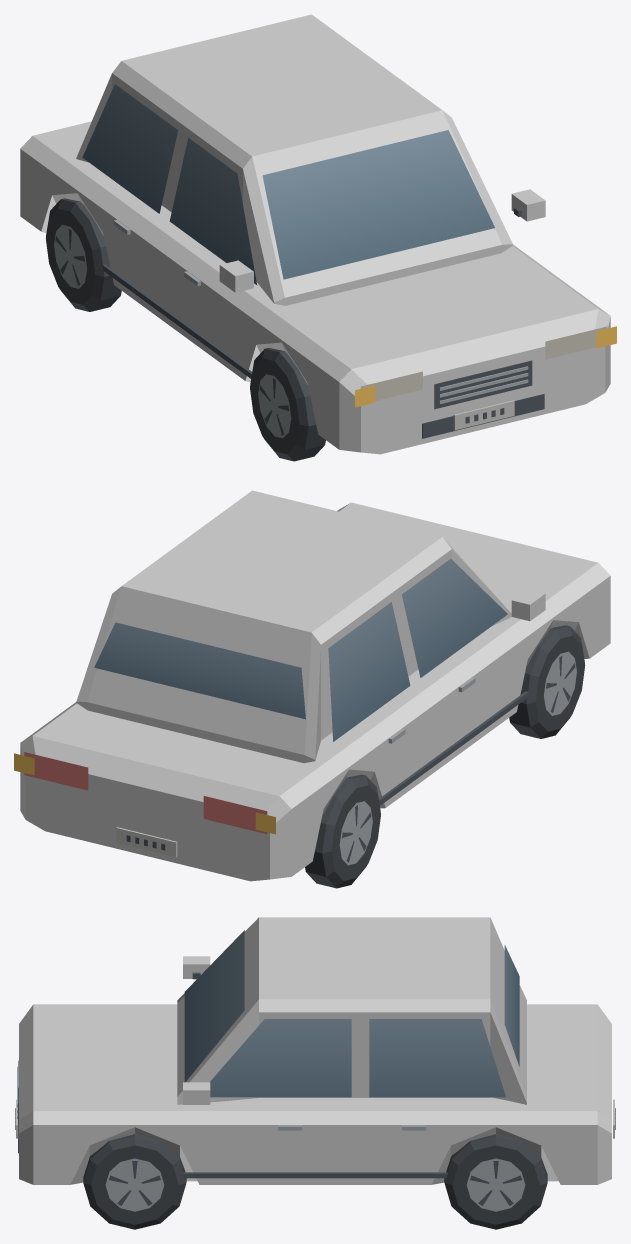
File: hatch.glb
The picture shows the model from 3 angles, top to bottom: view 1: azimuth 30°, elevation 25°; view 2: azimuth 150°, elevation 25°; view 3: azimuth 270°, elevation 25°; orthographic projection. The views are drawn at different scales.
Parts seen in each view (by area): view 1: body, wheel_1, wheel_3; view 2: body, wheel_3, wheel_1, brake_0, brake_1; view 3: body, wheel_0, wheel_2.
Boxes of the visible parts, <box> form: body: <box>20,14,610,454</box>; wheel_1: <box>250,347,325,461</box>; wheel_3: <box>45,198,121,311</box>; body: <box>20,490,610,881</box>; wheel_3: <box>305,774,380,888</box>; wheel_1: <box>509,625,585,738</box>; brake_0: <box>24,752,88,790</box>; brake_1: <box>203,796,267,834</box>; body: <box>15,917,615,1184</box>; wheel_0: <box>83,1134,186,1229</box>; wheel_2: <box>444,1134,547,1229</box>.
Size of the model in its own units: 1.97 by 1.45 by 3.74.
